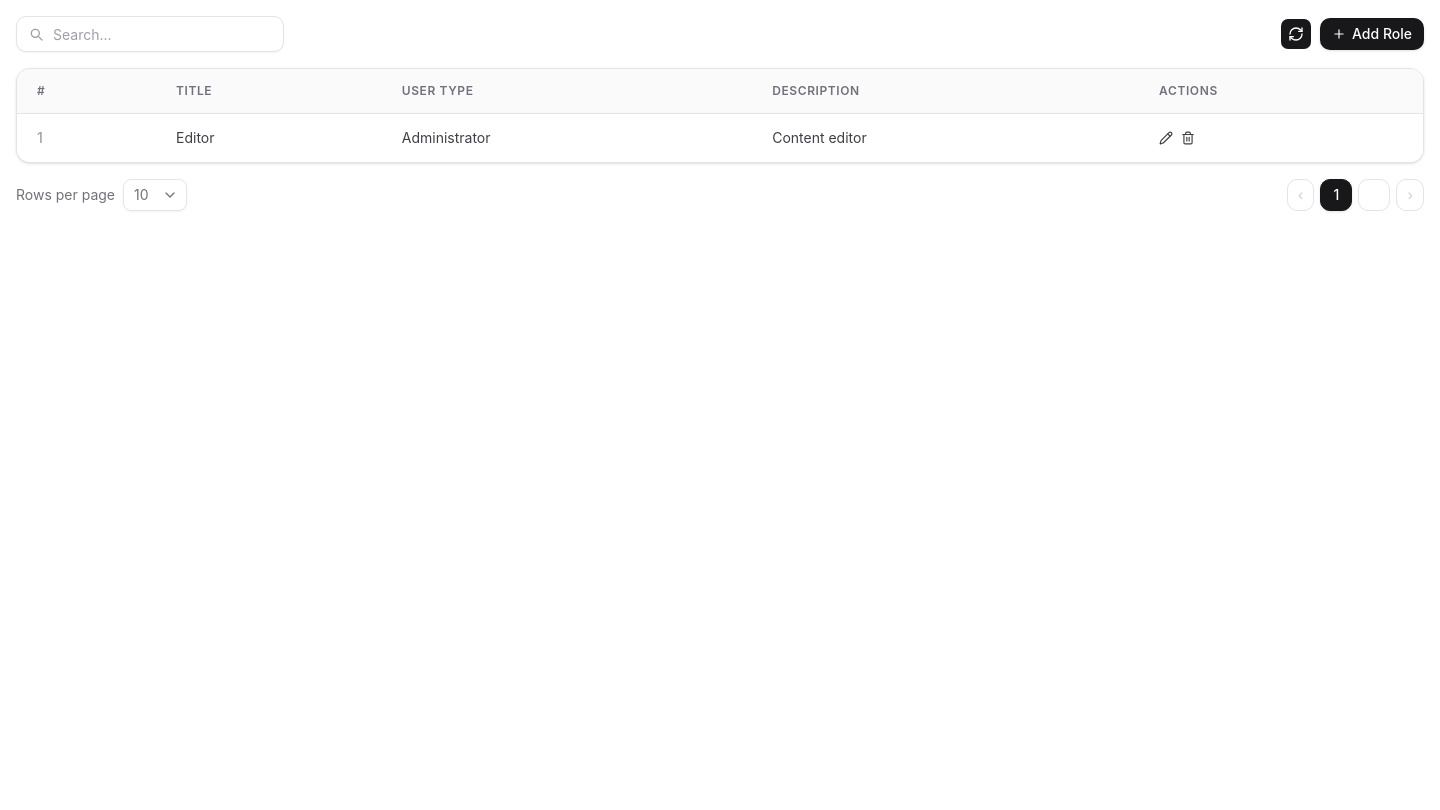
Scenario: ViewRoles › names the role by its title in the confirmation and deletes by slug
Click the button named "Delete role".
click(1188, 138)  # box [1181,131,1195,145]
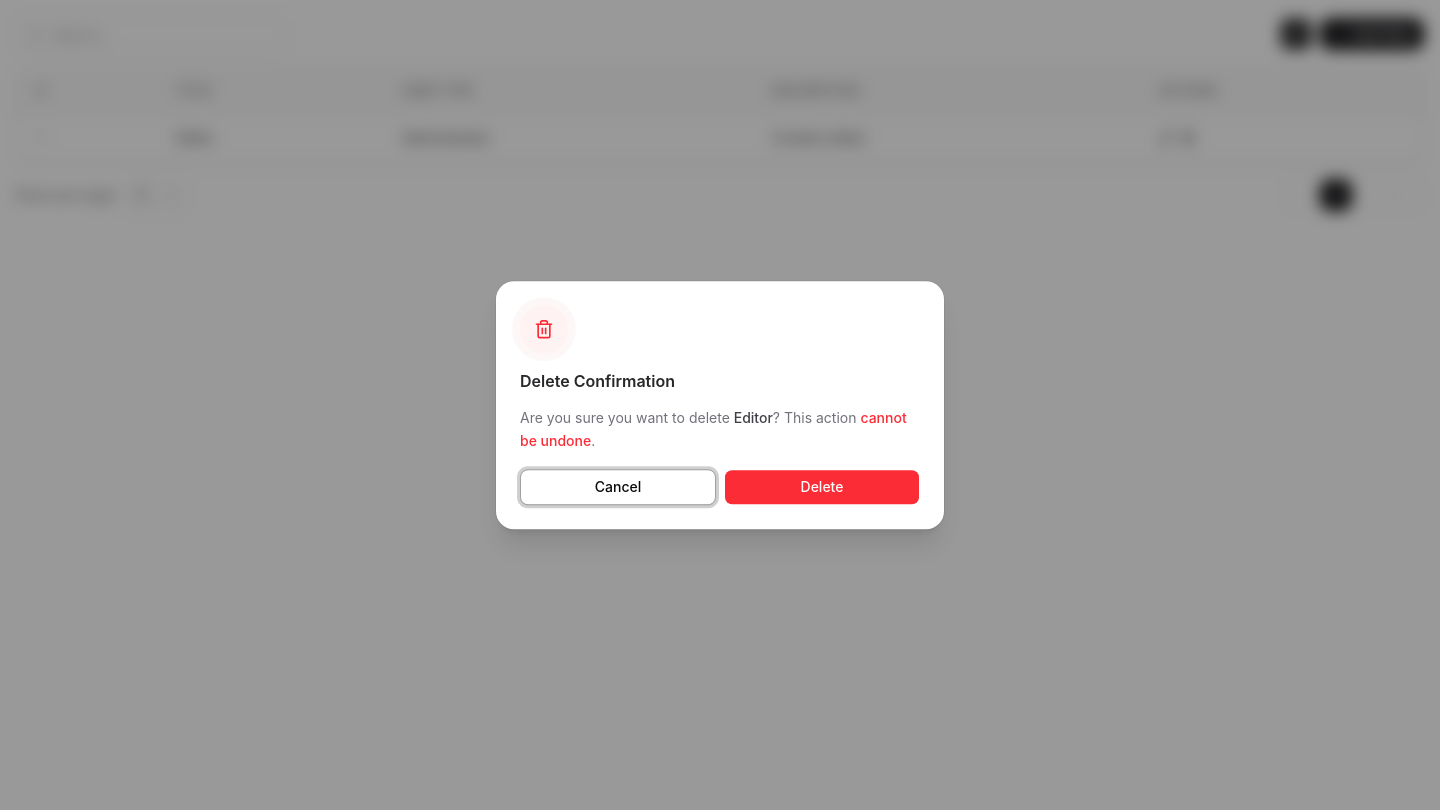
Result: the dialog shows "Editor" at [734,409,773,426]
Click the button "Delete".
click(822, 487)  # box [724,469,920,505]
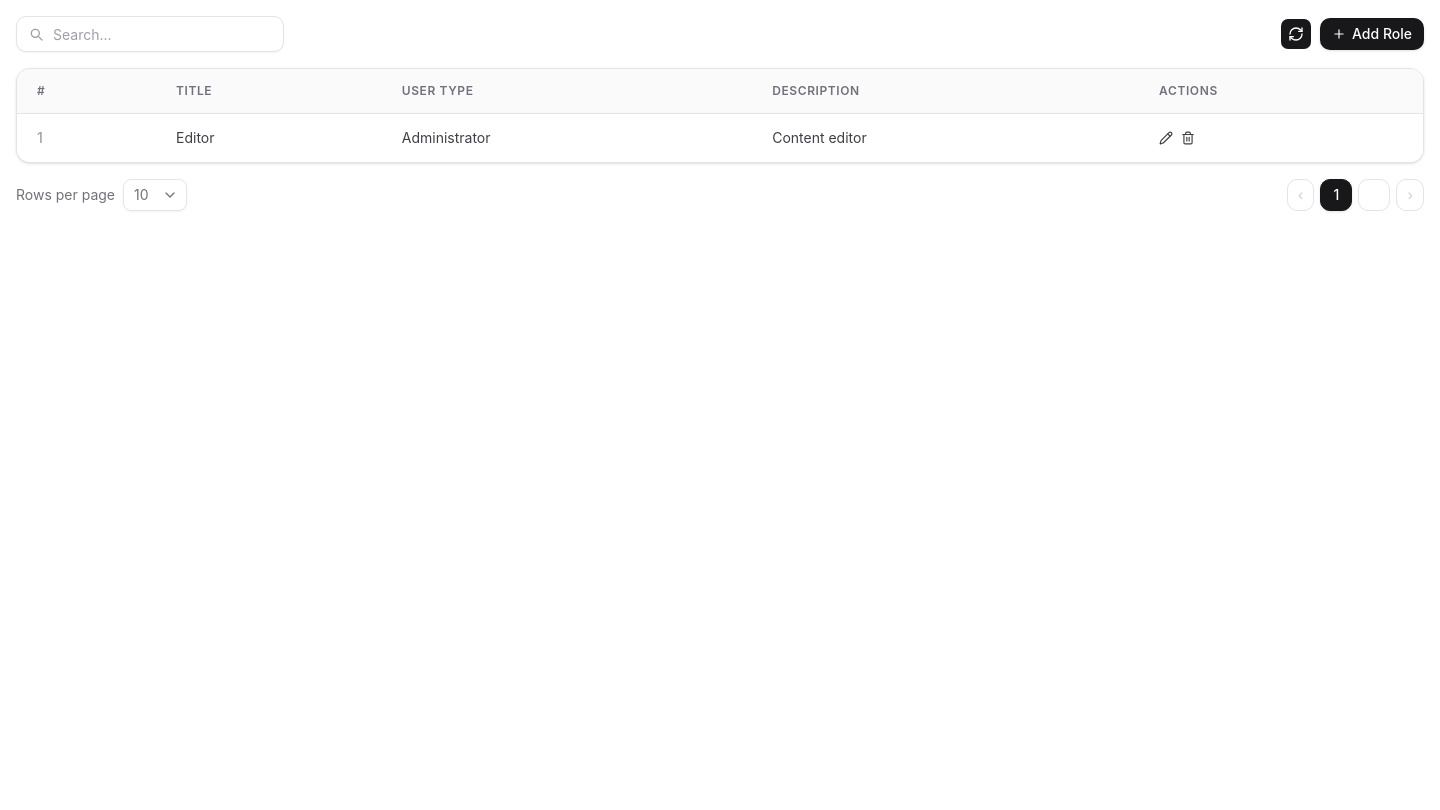
Result: the dialog is gone
